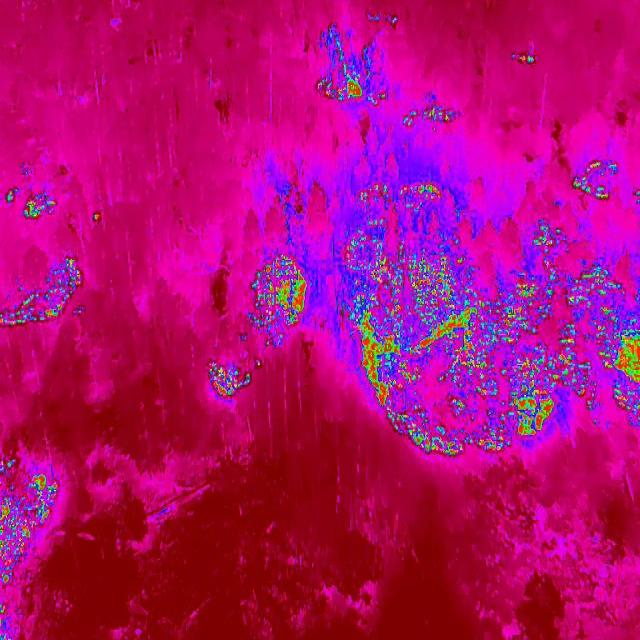fire: (330, 222, 613, 459), (0, 456, 62, 586), (247, 249, 315, 345), (0, 253, 84, 328), (314, 61, 390, 109), (612, 317, 640, 424), (356, 179, 449, 209), (567, 152, 620, 202), (204, 355, 262, 399), (4, 185, 62, 223), (398, 100, 466, 130), (365, 10, 406, 34), (510, 43, 542, 71), (88, 208, 105, 227), (0, 604, 6, 621)
